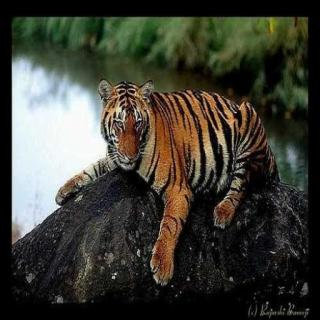Tiger: (49, 85, 278, 289)
